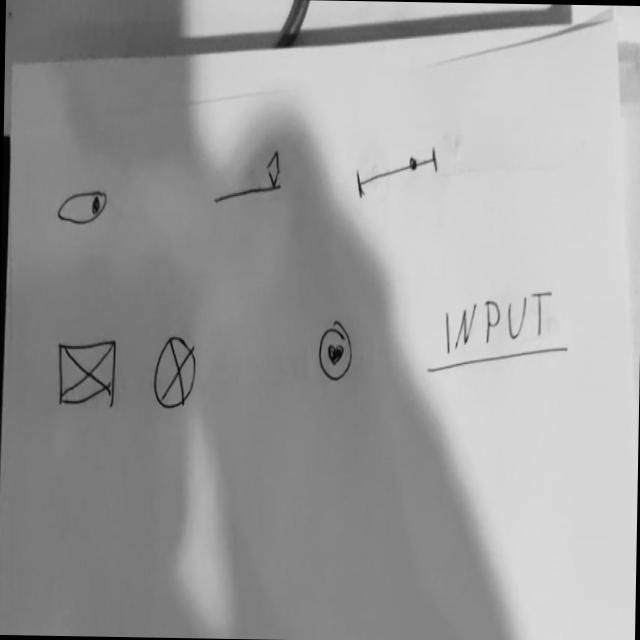icon-button: (317, 318, 355, 389)
image: (57, 337, 118, 408), (154, 336, 199, 412)
input: (424, 283, 573, 379)
number-input: (213, 147, 287, 210)
slider: (354, 144, 443, 203)
toggle: (57, 187, 111, 230)
